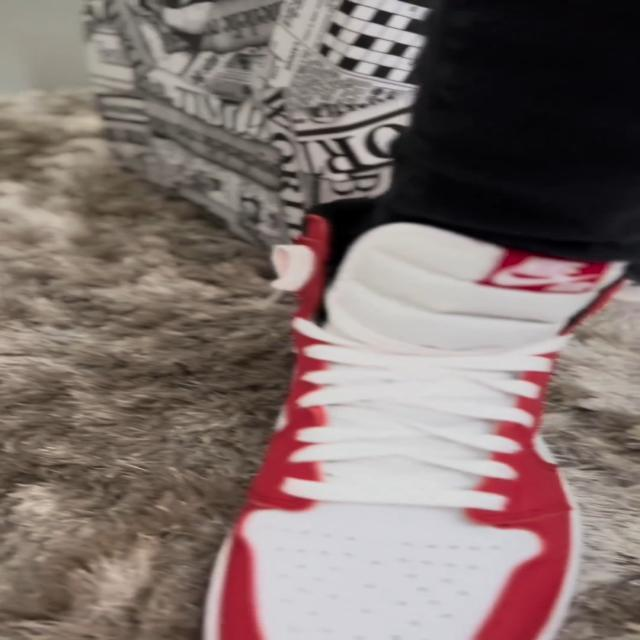nike fake jordan 1: (213, 200, 616, 640)
